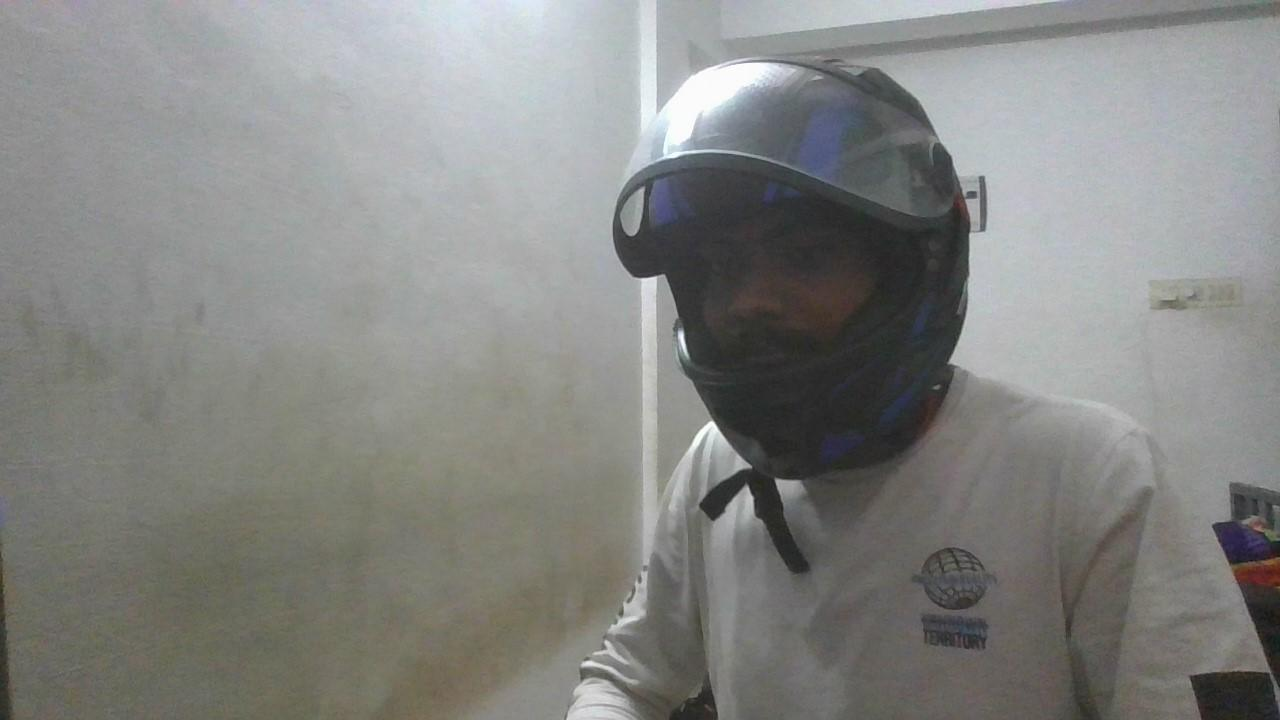helmet: (611, 54, 972, 482)
